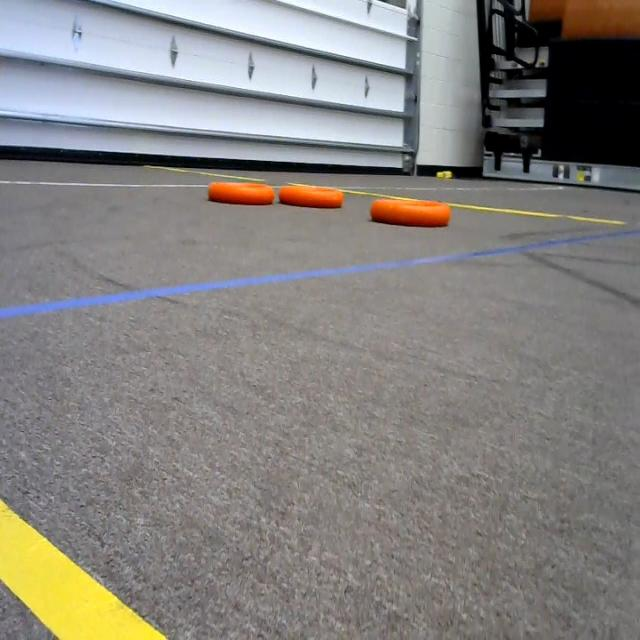note: (368, 186, 454, 238), (199, 170, 280, 214), (277, 167, 344, 218)
